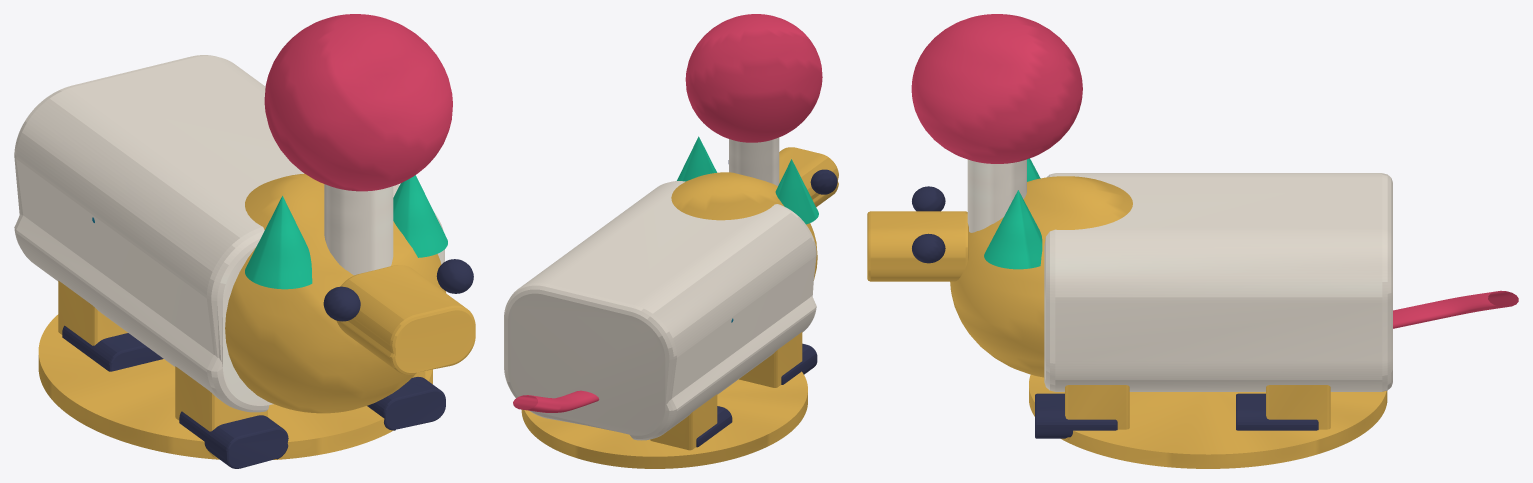
Rendered from 0291_古生代动物图鉴_始莱德利基虫.glb.
The picture shows the model from 3 angles, left to right: view 1: azimuth 30°, elevation 25°; view 2: azimuth 150°, elevation 25°; view 3: azimuth 270°, elevation 25°; orthographic projection. The views are drawn at different scales.
Parts seen in each view (by area): view 1: card_0291; view 2: card_0291; view 3: card_0291.
Part boxes in pixels (x1,y1,x2,y2): card_0291: (14, 14, 475, 468); card_0291: (504, 14, 838, 468); card_0291: (867, 14, 1518, 468).
Size of the model in its own units: 0.7893 by 1 by 1.55.
